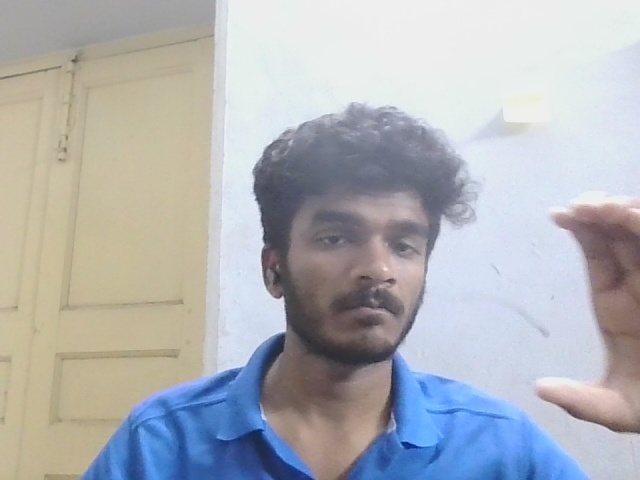No: (497, 179, 640, 447)
